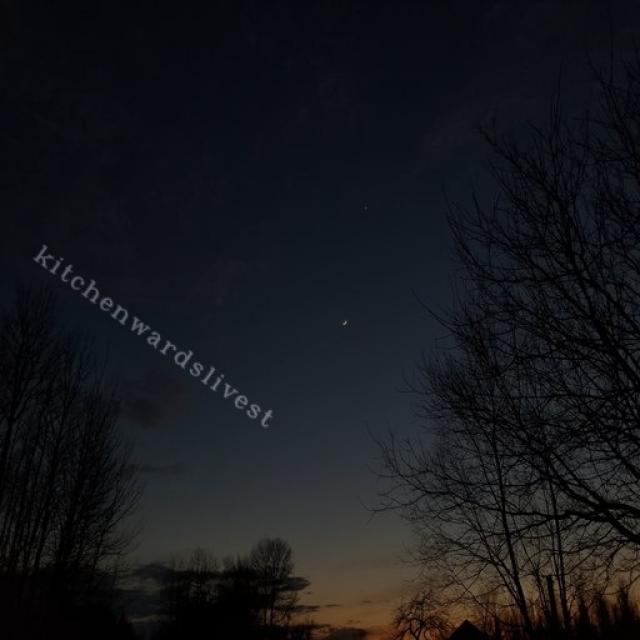watermark: (25, 238, 284, 432)
